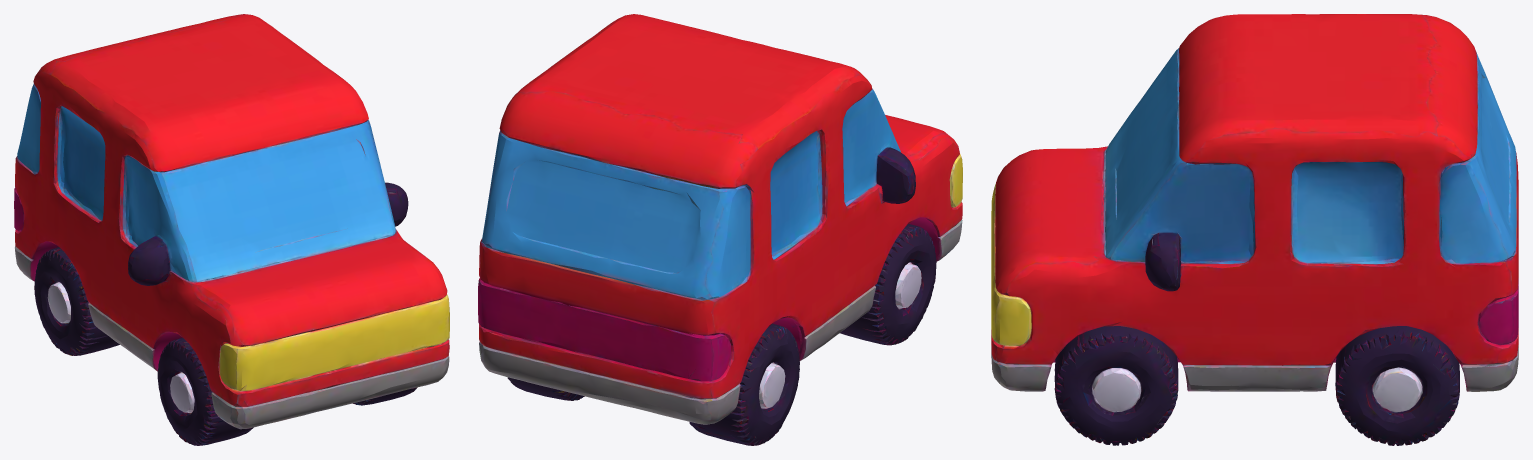
The model's file is car.glb.
3 renders of one model, left to right at view 1: azimuth 30°, elevation 25°; view 2: azimuth 150°, elevation 25°; view 3: azimuth 270°, elevation 25°, orthographic. The views are drawn at different scales.
Parts seen in each view (by area): view 1: Mesh; view 2: Mesh; view 3: Mesh.
Part boxes in pixels (x1=…): Mesh: x1=14, y1=14, x2=449, y2=445; Mesh: x1=478, y1=14, x2=962, y2=445; Mesh: x1=991, y1=14, x2=1518, y2=445.
Size of the model in its own units: 0.6944 by 0.6744 by 1.
Materials: 1 (1 with a texture image).
